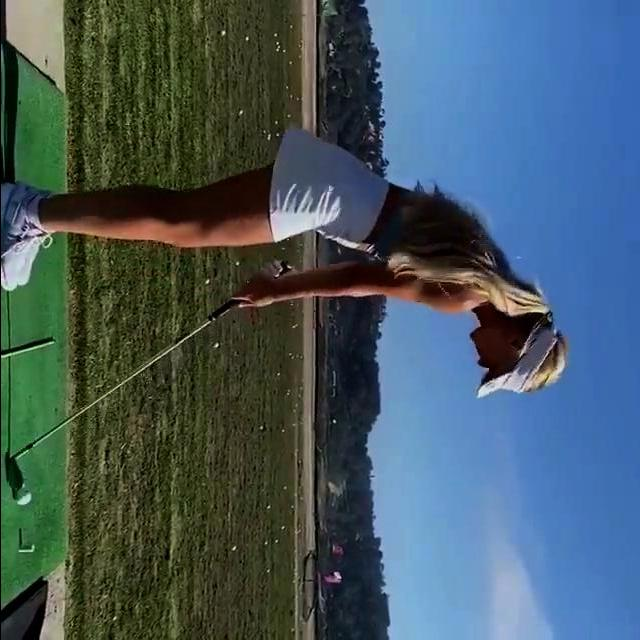golf ball: (14, 490, 30, 505)
golf club-handle: (6, 262, 291, 490)
golf club-head: (6, 460, 25, 490)
